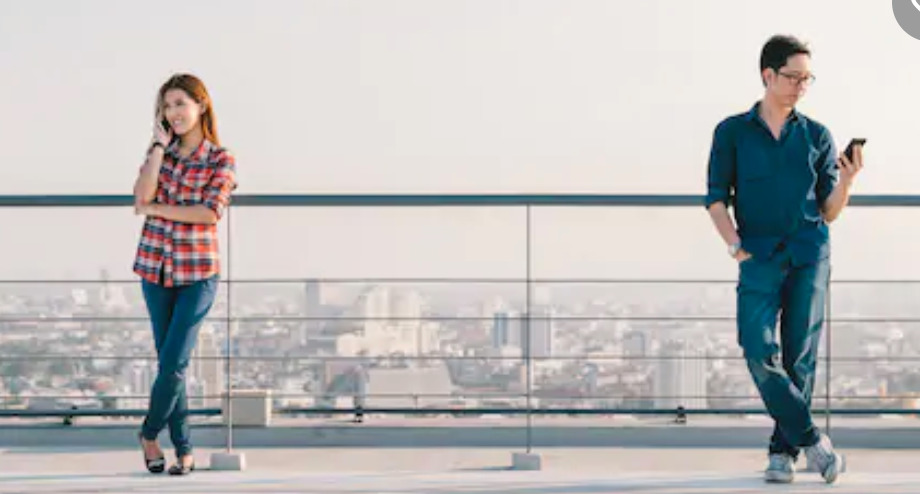Good: (129, 28, 873, 489)
